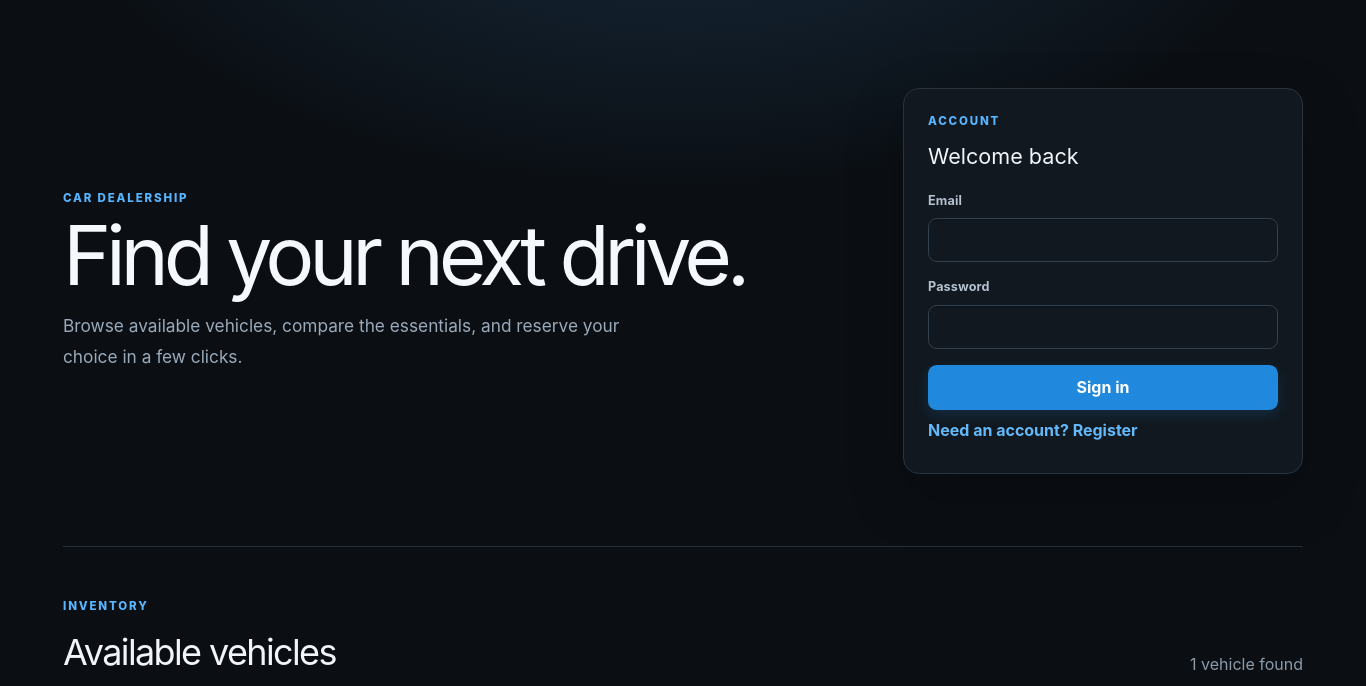
inventory application › registers, persists the returned session, and shows an immediate success message
The width and height of the screenshot is (1366, 686).
Step 1. Click the button "Need an account? Register" → [1033, 430], box [928,410,1138,449]
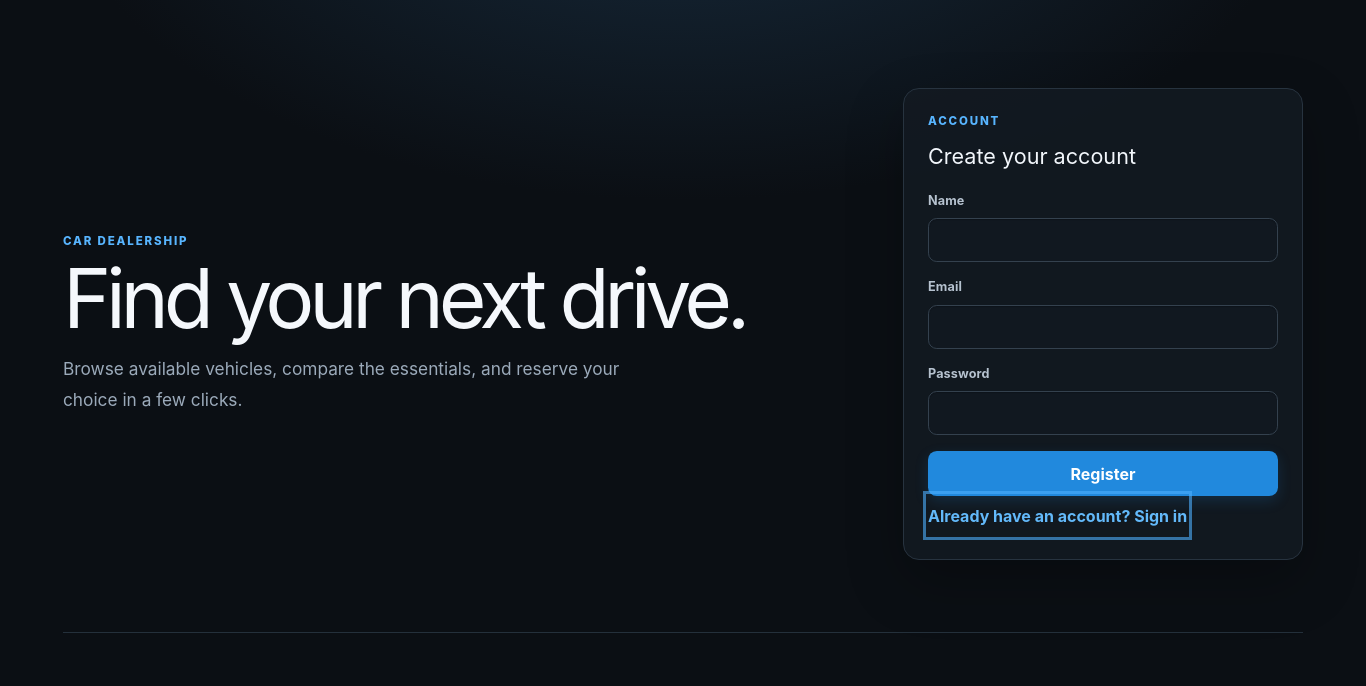
Step 2. Type "New User" into the field labelled "Name" → [1103, 240], box [928,218,1278,262]
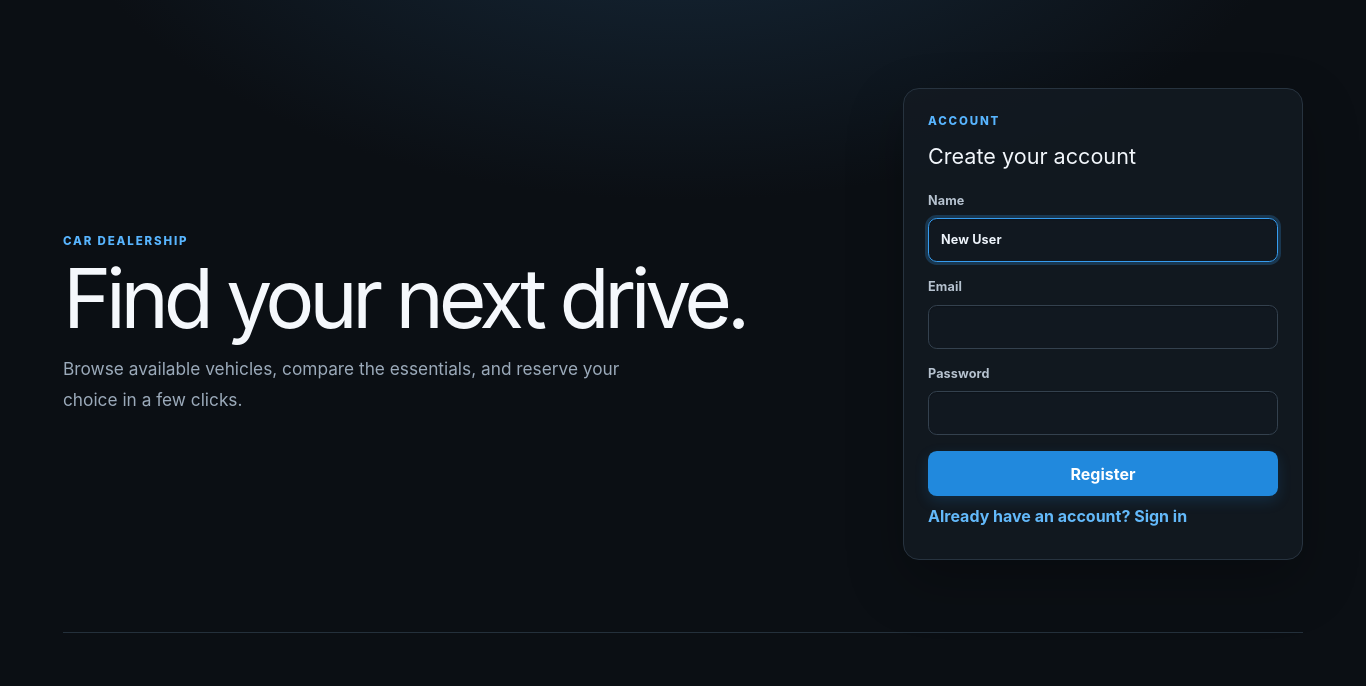
Step 3. Type "new@example.com" into the field labelled "Email" → [1103, 326], box [928,304,1278,348]
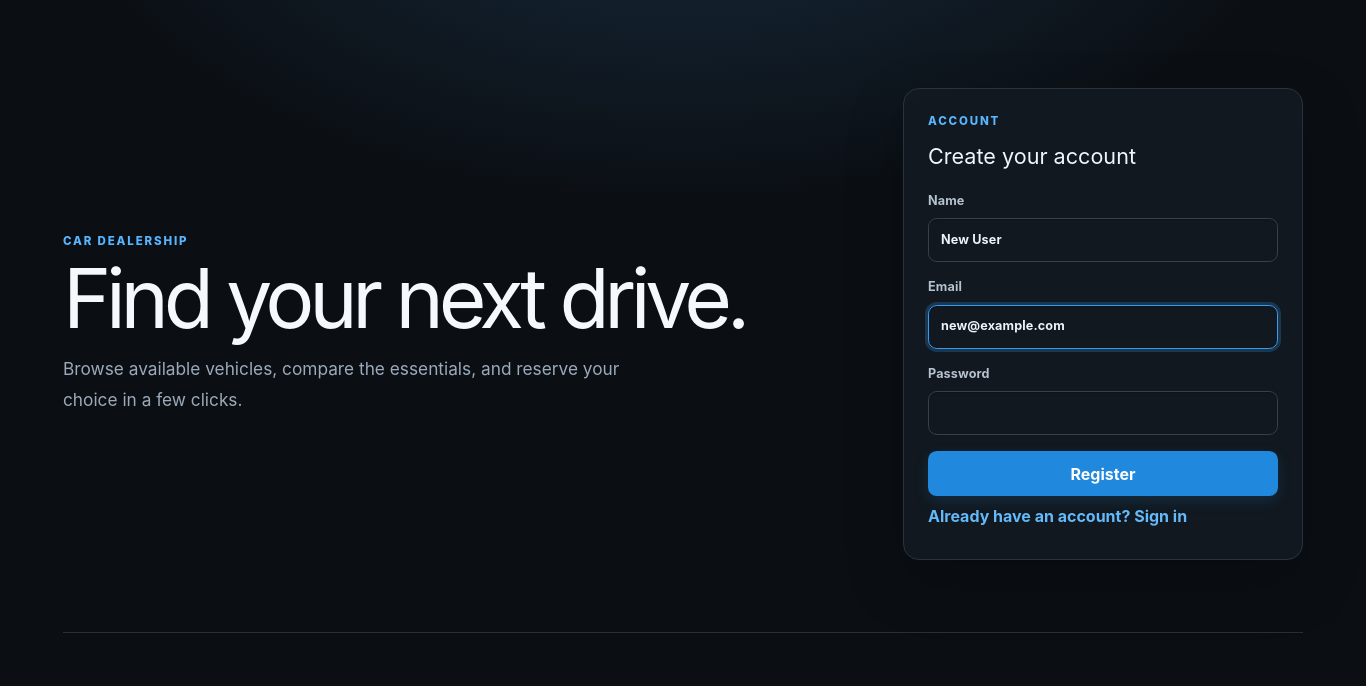
Step 4. Type "secure-password-123" into the password field labelled "Password" → [1103, 413], box [928,391,1278,435]
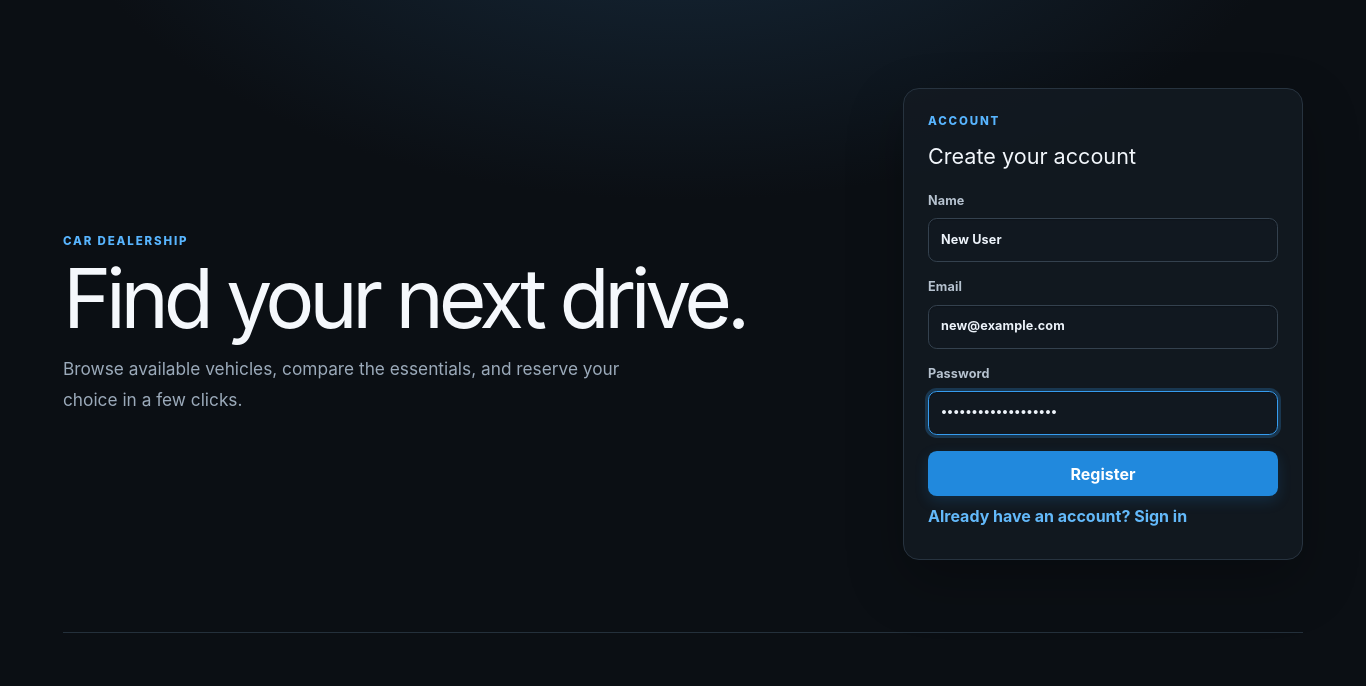
Step 5. Click the button "Register" → [1103, 474], box [928,451,1278,496]
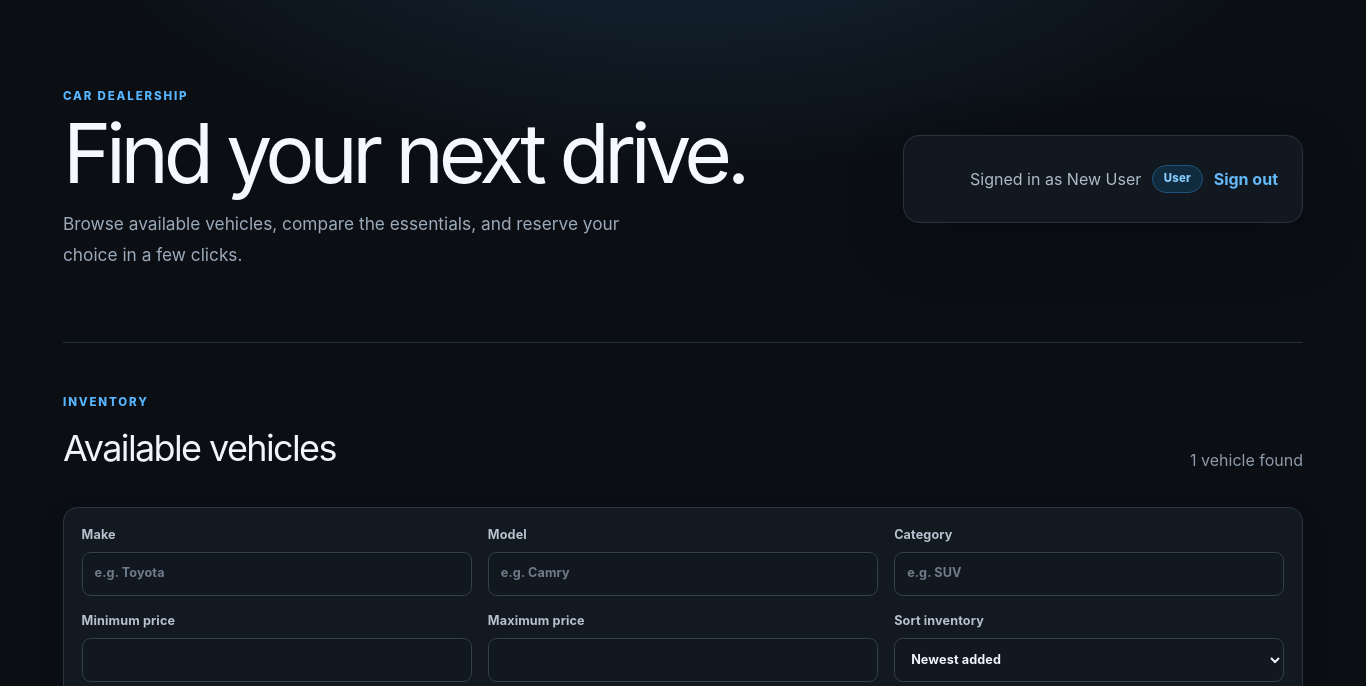
Expected: the text "Signed in as New User" is shown, [970,167,1141,191]
